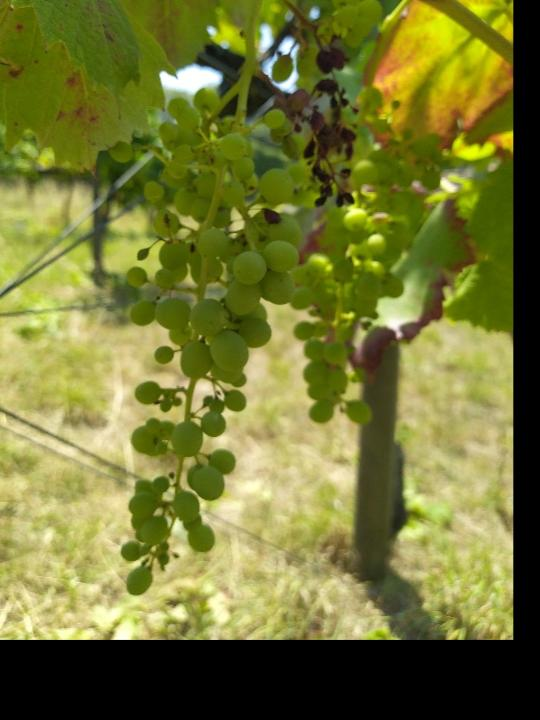grape: (103, 90, 313, 603), (294, 9, 374, 208)
